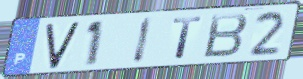1: (84, 19, 107, 67)
2: (249, 9, 287, 58)
B: (201, 11, 250, 60)
I: (130, 16, 155, 66)
T: (171, 15, 205, 61)
V: (44, 20, 83, 71)
